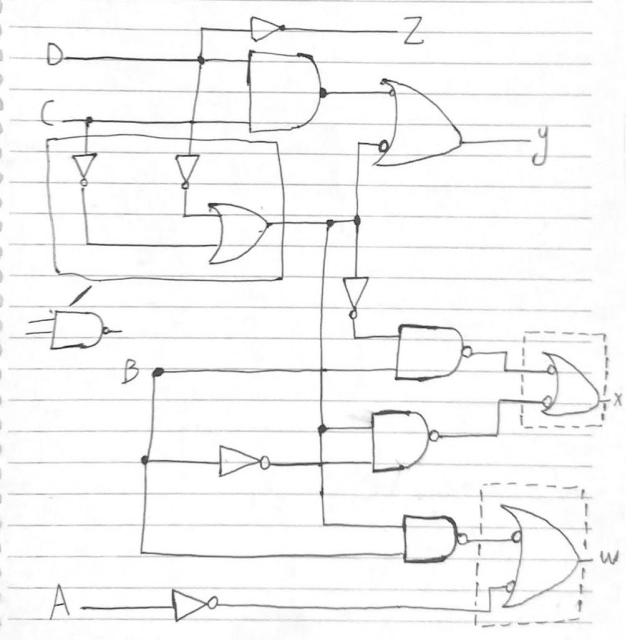NAND: (239, 51, 342, 138), (393, 310, 480, 390), (365, 398, 450, 478), (396, 500, 476, 571), (43, 299, 113, 358)
NOT: (163, 575, 231, 629), (216, 434, 277, 486), (341, 273, 379, 326), (67, 148, 107, 195), (170, 147, 208, 195), (243, 11, 290, 47)
OR: (366, 69, 477, 183), (497, 492, 581, 608), (535, 342, 606, 427), (200, 199, 274, 271)
